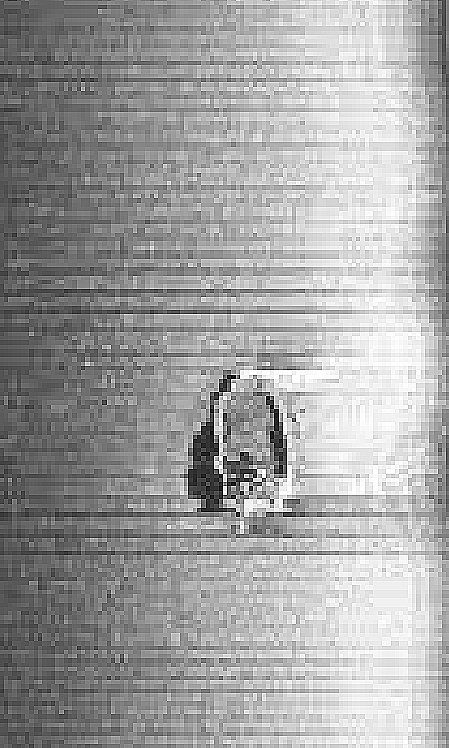ship: (210, 366, 303, 541)
